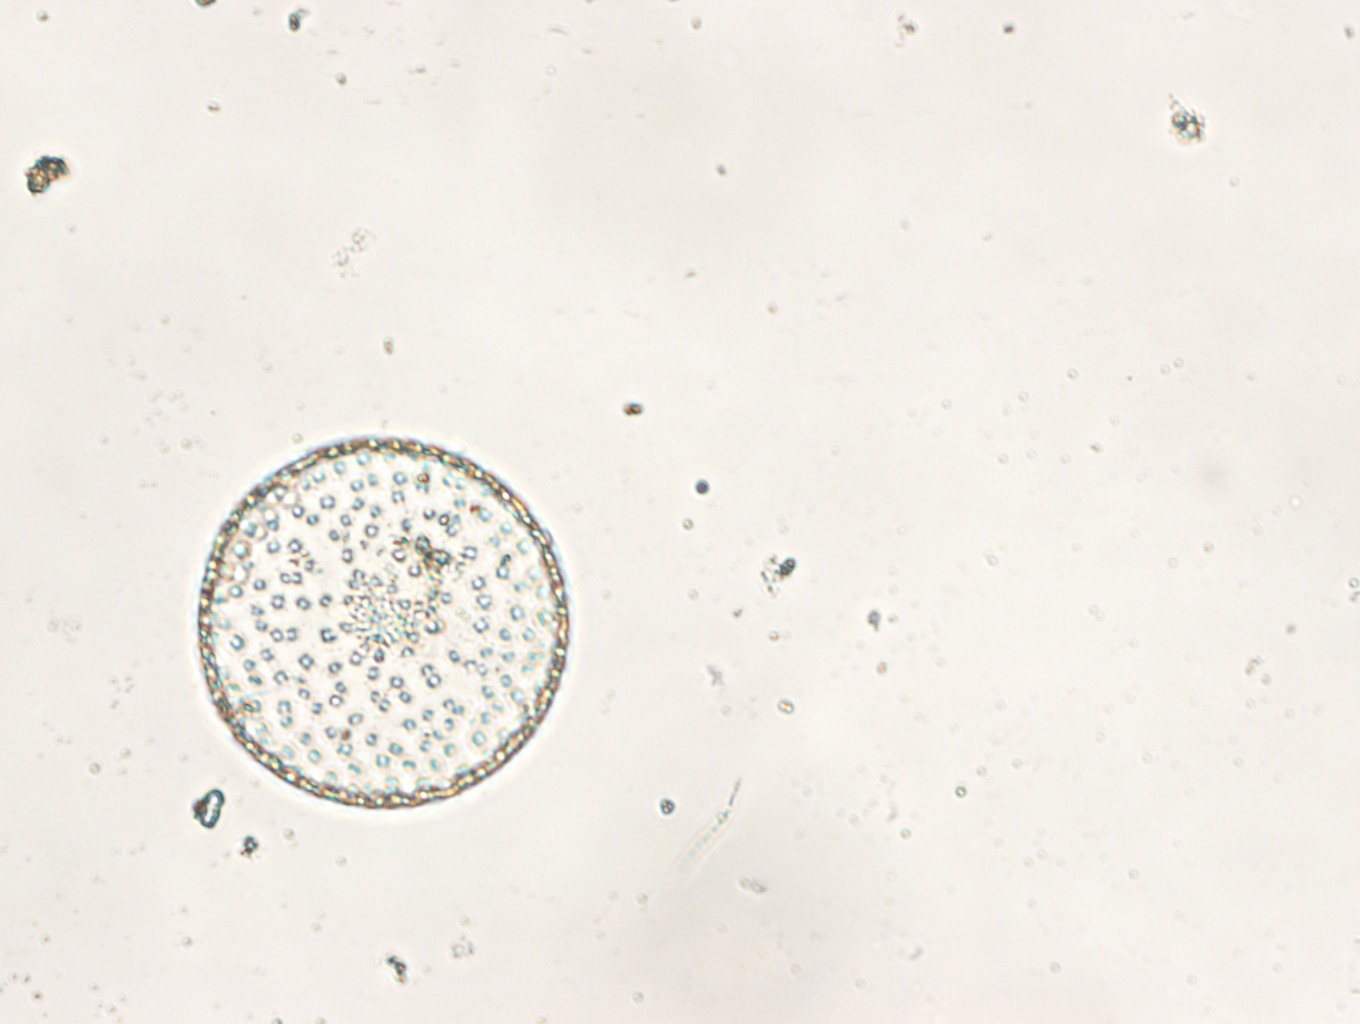coscinodiscus: (198, 433, 569, 808)
